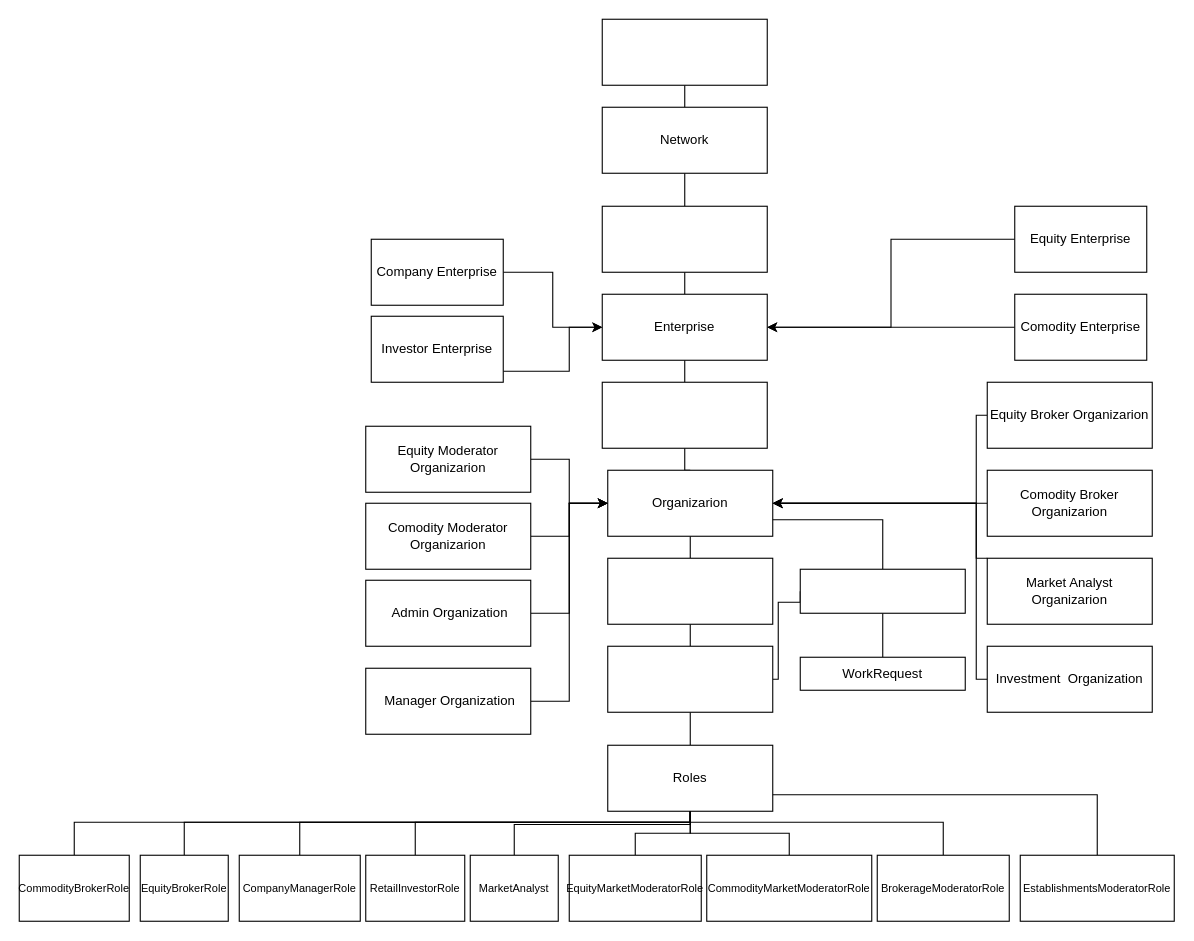
This 1194x941 diagram has some shape labels left out. Each missing label, with the centre of its shape:
Enterprise Directory: the point at 684,238
Organizarion Directory: the point at 684,414
StockManagementSystem: the point at 684,51
UserAccount: the point at 690,678
UserAccountDirectory: the point at 690,590
WorkQueue: the point at 882,590
